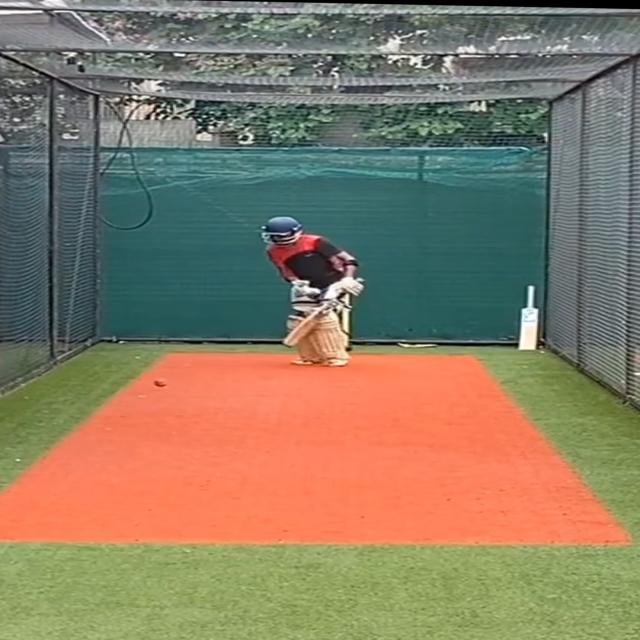ball: (148, 377, 170, 390)
